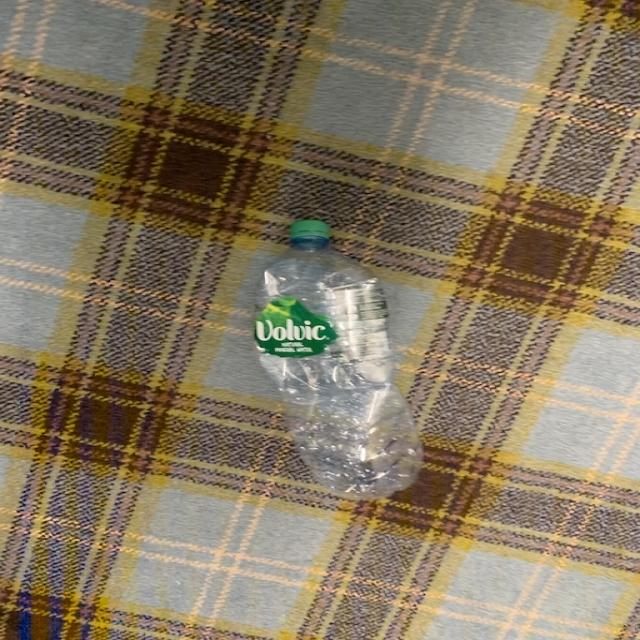Waste: (254, 220, 422, 501)
